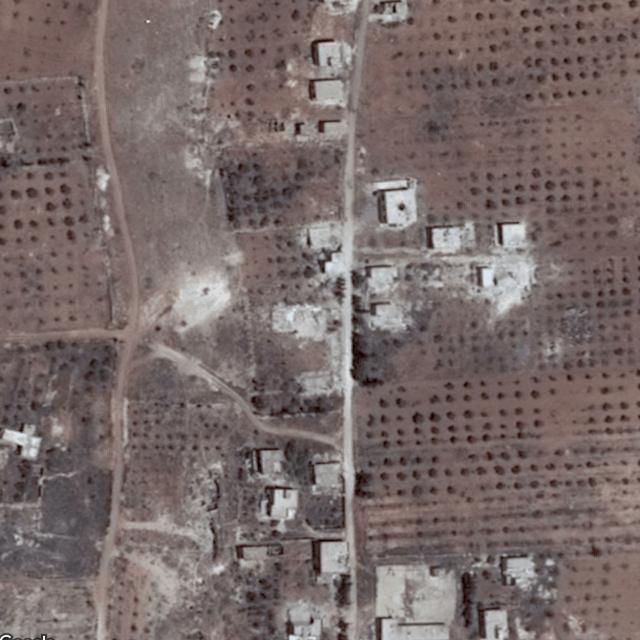damaged_building: (269, 301, 344, 396), (468, 260, 536, 318), (499, 552, 542, 595), (297, 222, 345, 253), (368, 300, 409, 331)
